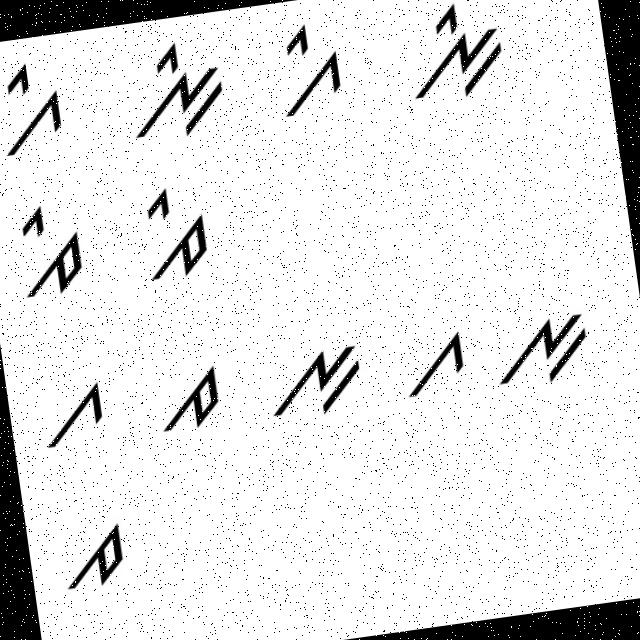ga: (392, 322, 475, 404), (32, 377, 113, 458)
gi: (269, 17, 352, 131), (0, 59, 74, 163)
nga: (483, 302, 598, 394), (261, 337, 372, 429)
ngi: (114, 36, 233, 156), (389, 0, 515, 108)
ta: (51, 517, 143, 603), (146, 356, 228, 446)
ti: (128, 180, 220, 286), (4, 199, 92, 308)
